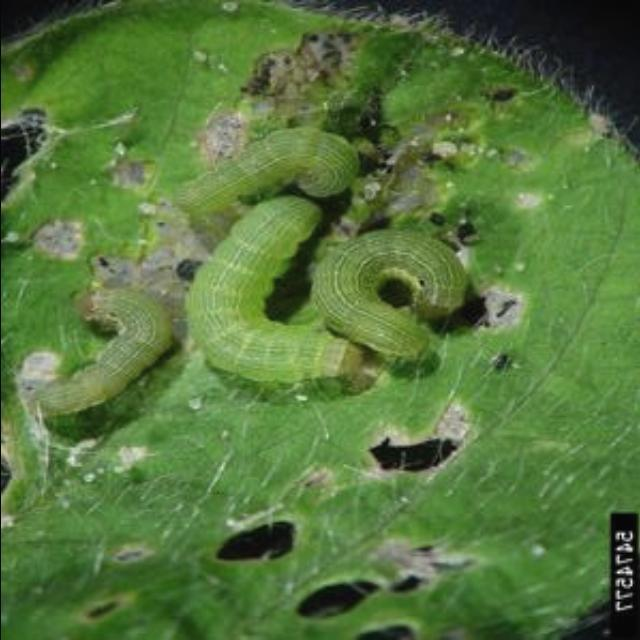Beet armyworm: (177, 182, 371, 412), (310, 199, 498, 369), (152, 90, 354, 230), (21, 274, 180, 444)
